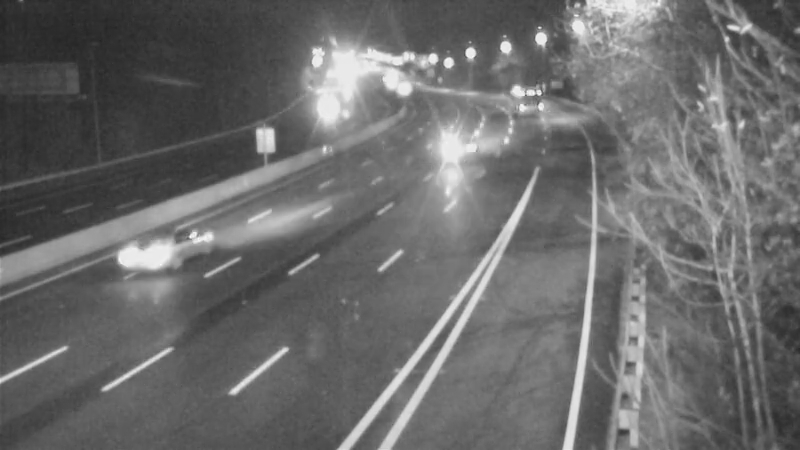vehicle: (101, 211, 181, 291), (378, 61, 428, 111), (496, 77, 546, 127), (443, 122, 493, 172), (297, 79, 347, 129)
